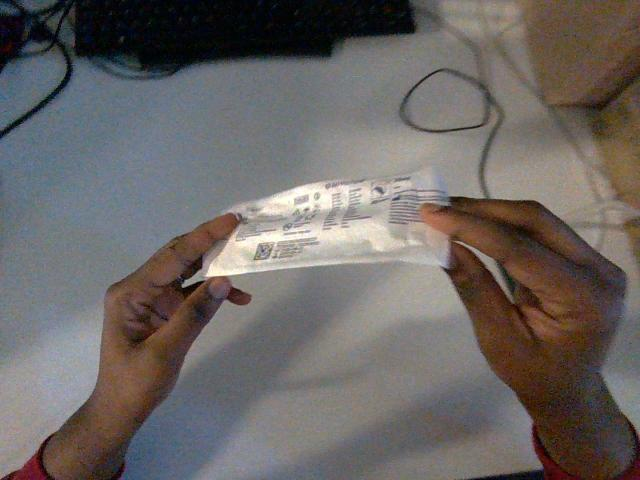syringe: (202, 168, 448, 276)
